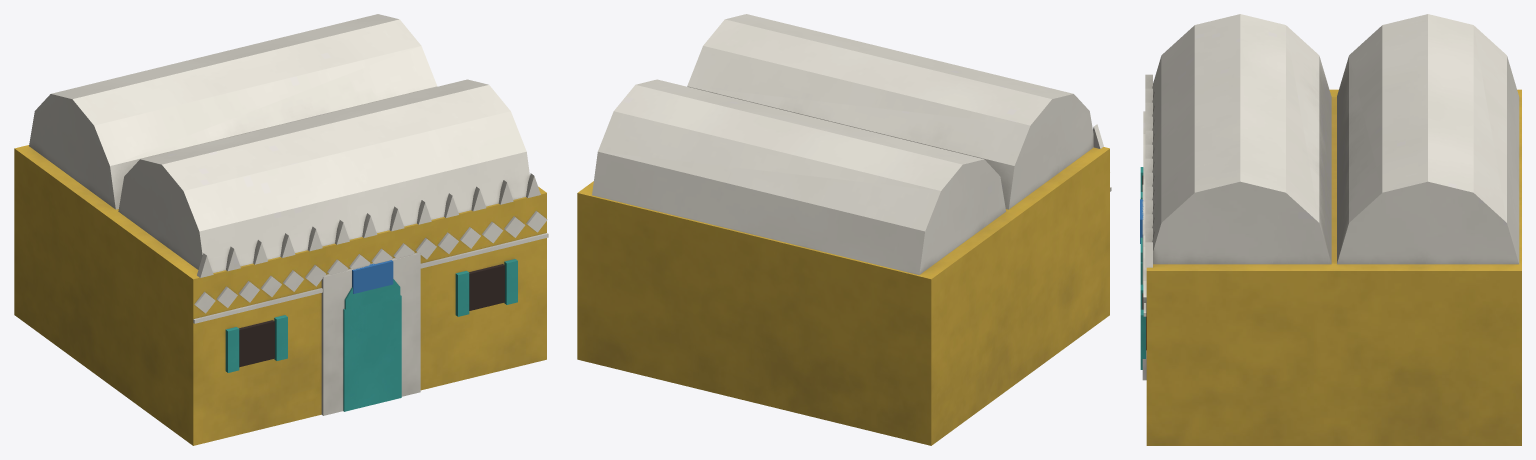
The model's file is hus_nubisk_2_tex.glb.
The picture shows the model from 3 angles, left to right: view 1: azimuth 30°, elevation 25°; view 2: azimuth 150°, elevation 25°; view 3: azimuth 270°, elevation 25°; orthographic projection. The views are drawn at different scales.
Parts seen in each view (by area): view 1: hus_nubisk_2; view 2: hus_nubisk_2; view 3: hus_nubisk_2.
Boxes of the visible parts, left/top/right/bottom form: hus_nubisk_2: left=14, top=14, right=548, bottom=445; hus_nubisk_2: left=577, top=14, right=1111, bottom=445; hus_nubisk_2: left=1140, top=14, right=1521, bottom=445.
Size of the model in its own units: 8 by 5.3 by 7.12.
5 materials, 3 textured.
